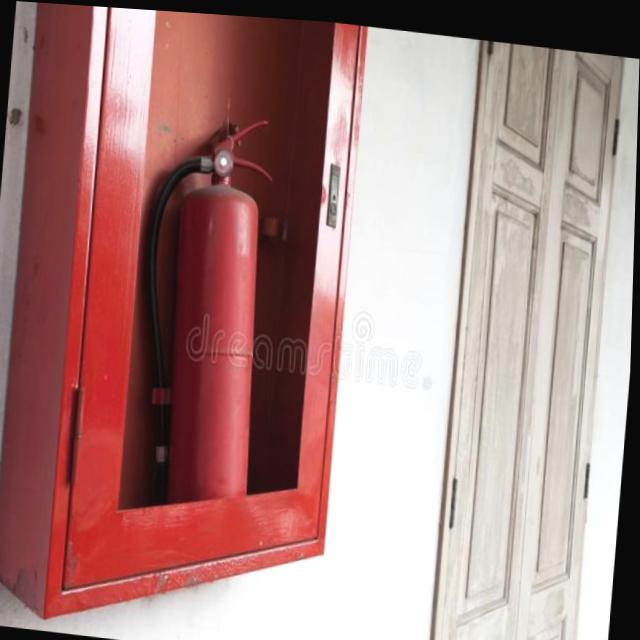FireExtinguisher: (121, 97, 285, 572)
